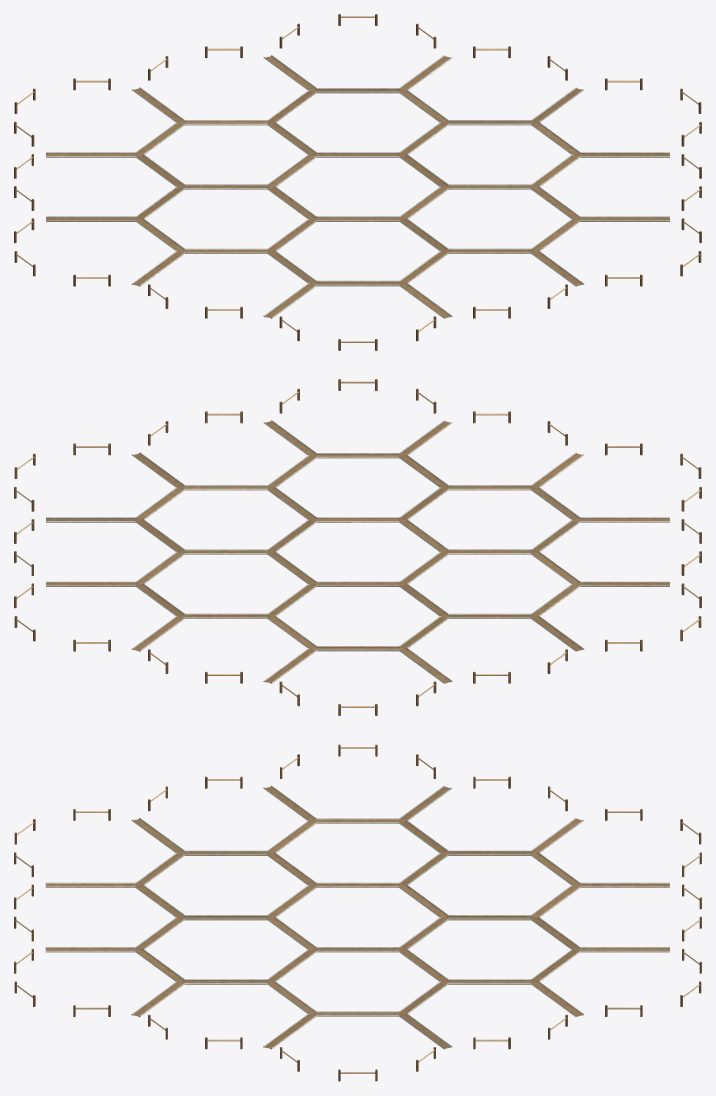
Rendered from ground-5.glb.
The picture shows the model from 3 angles, top to bottom: view 1: azimuth 30°, elevation 25°; view 2: azimuth 150°, elevation 25°; view 3: azimuth 270°, elevation 25°; orthographic projection.
Visible parts, largest first — view 1: ground-5; view 2: ground-5; view 3: ground-5.
Part boxes in pixels (<box>): ground-5: <box>14,14,701,350</box>; ground-5: <box>14,379,701,715</box>; ground-5: <box>14,744,701,1081</box>.
Size of the model in its own units: 10.13 by 0.1599 by 9.04.
Materials: 1 (1 with a texture image).
